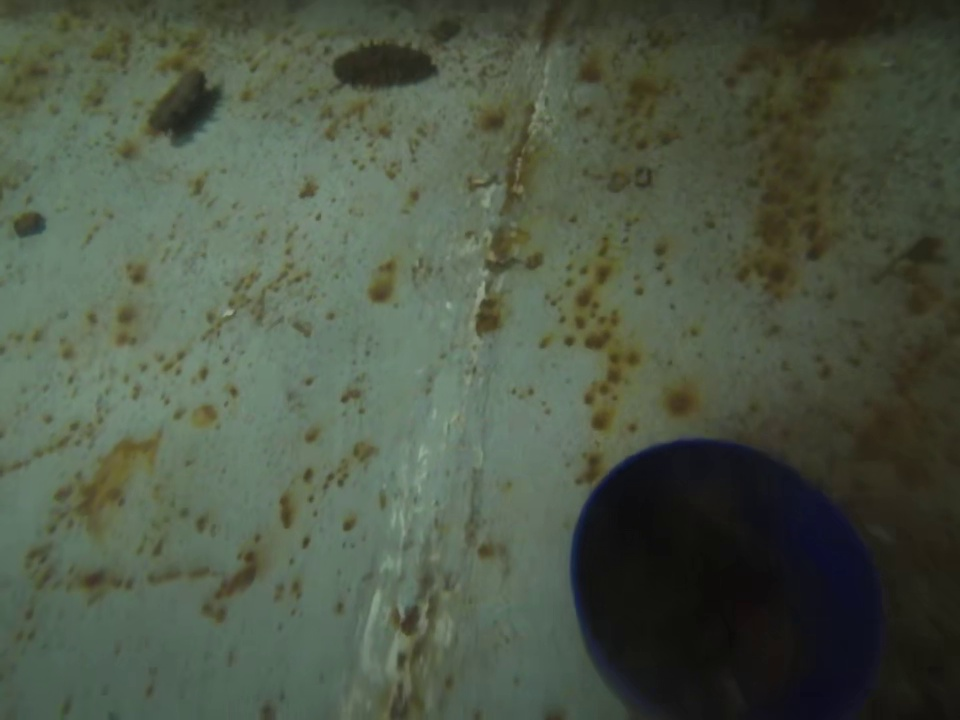seacucumber: (332, 41, 440, 87), (147, 63, 207, 135)
